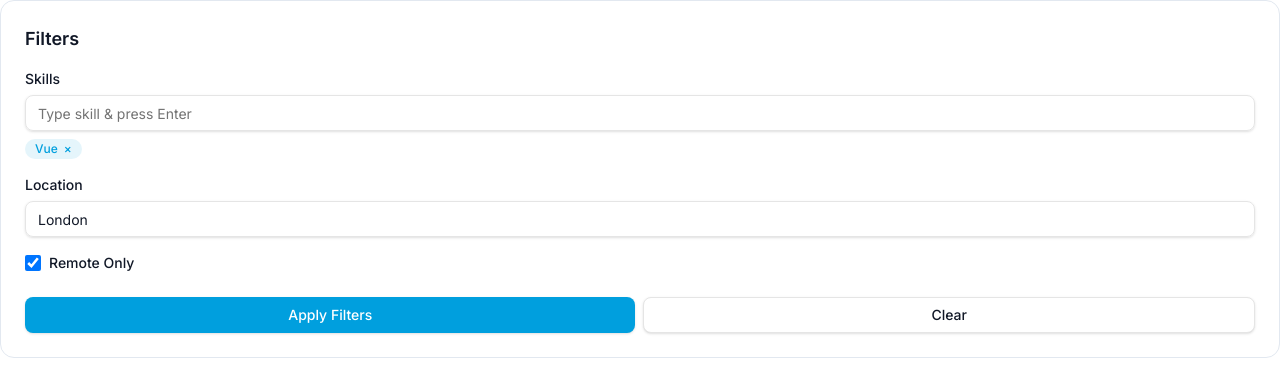
JobFilters › clears filters and resets URL
The image size is (1280, 375).
Check: the field showing "London" is shown, box [25,201,1255,237]
Check: the checkbox labelled "Remote Only" is checked, box [25,255,41,271]
Click the button "Clear": click(949, 315) [644,297,1255,333]
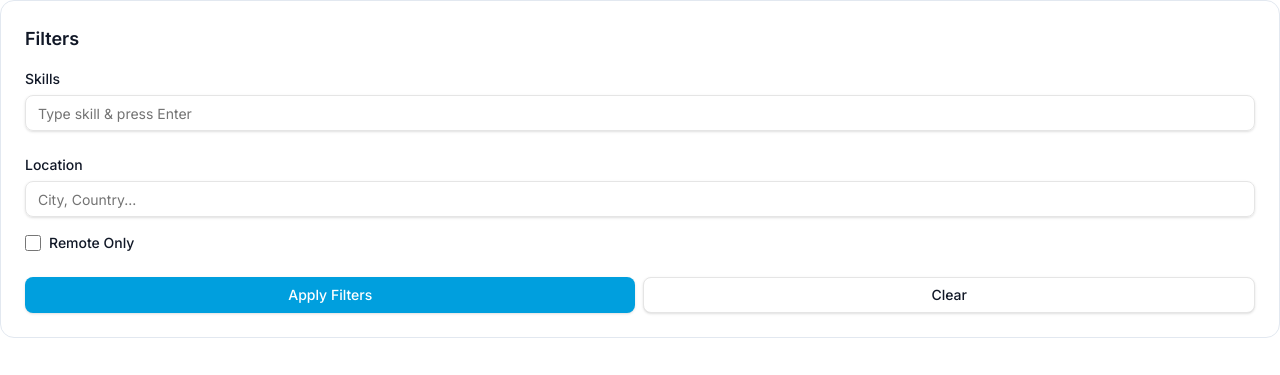
Check: the field with placeholder "City, Country..." is empty, box [25,181,1255,217]
Check: the checkbox labelled "Remote Only" is not checked, box [25,235,41,251]
Check: the text "Vue" is gone
